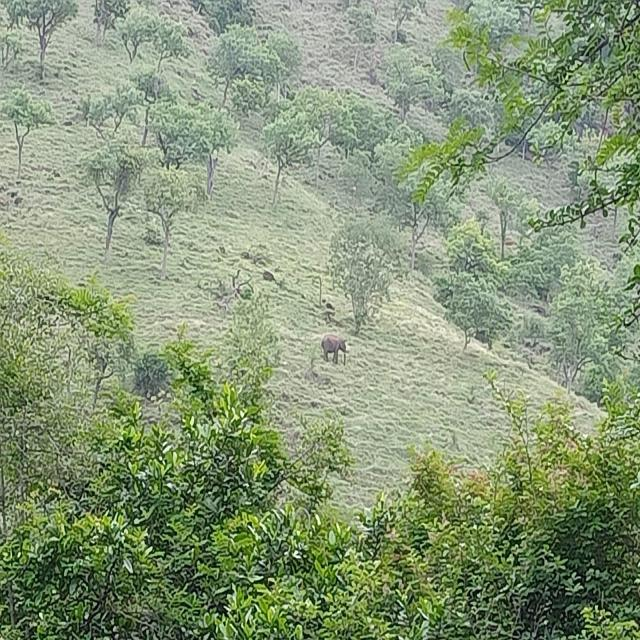Elephant: (321, 332, 346, 362)
